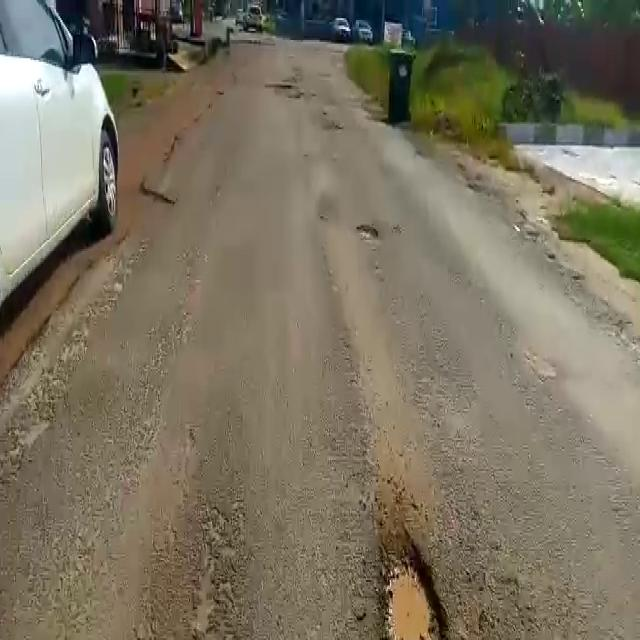Pothole: (371, 531, 457, 637), (353, 221, 384, 243)
